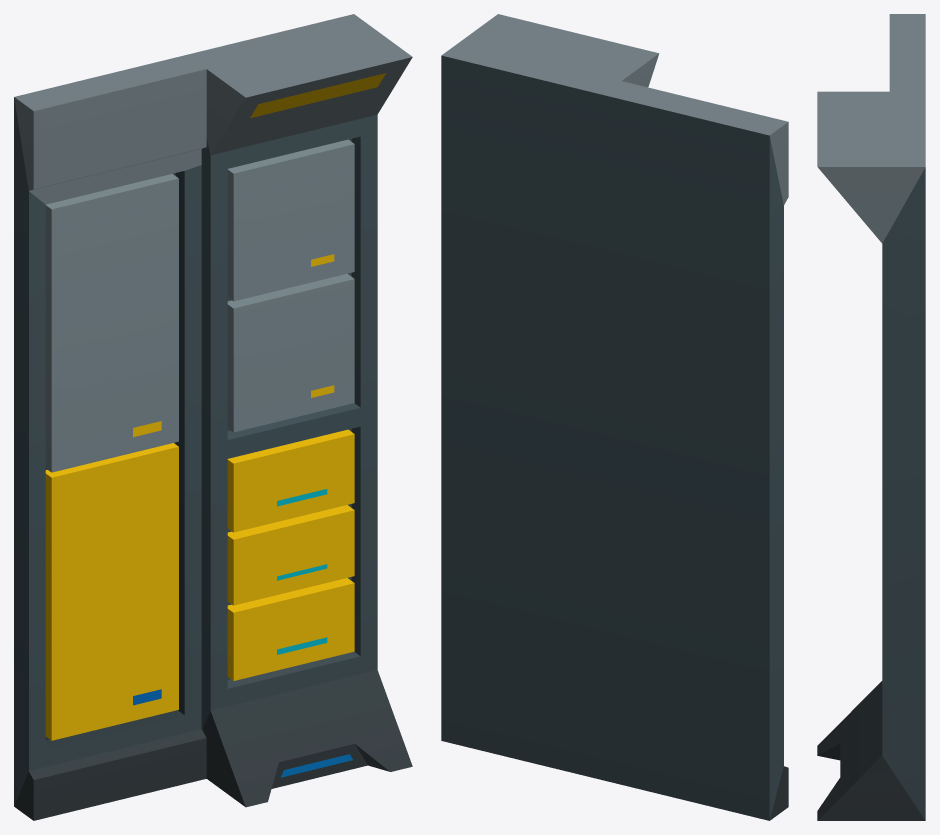
The model's file is Wall_type_C_015.fbx.
3 views of the same model, side by side, from view 1: azimuth 30°, elevation 25°; view 2: azimuth 150°, elevation 25°; view 3: azimuth 270°, elevation 25° (orthographic). The views are drawn at different scales.
Parts seen in each view (by area): view 1: Wall_type_C_015; view 2: Wall_type_C_015; view 3: Wall_type_C_015.
Boxes of the visible parts, left/top/right/bottom form: Wall_type_C_015: left=14, top=14, right=412, bottom=820; Wall_type_C_015: left=441, top=14, right=788, bottom=820; Wall_type_C_015: left=817, top=14, right=925, bottom=820.
Size of the model in its own units: 200 by 60 by 400.
